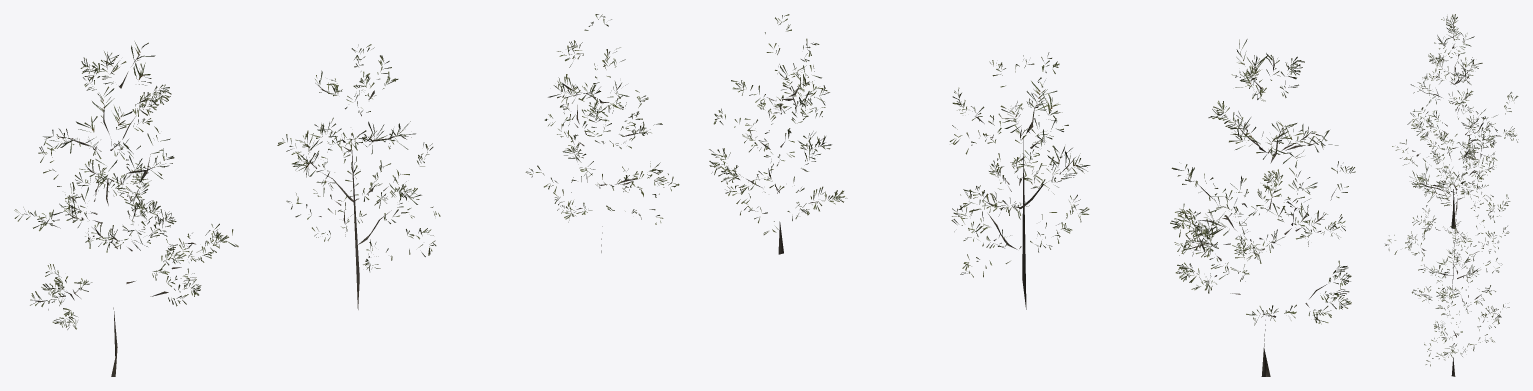
Rendered from pine_sapling_small.lod.glb.
3 renders of one model, left to right at view 1: azimuth 30°, elevation 25°; view 2: azimuth 150°, elevation 25°; view 3: azimuth 270°, elevation 25°, orthographic. The views are drawn at different scales.
Parts seen in each view (by area): view 1: pine_sapling_small_b; view 2: pine_sapling_small_b; view 3: pine_sapling_small_b.
Part boxes in pixels (<box>): pine_sapling_small_b: <box>14,14,679,376</box>; pine_sapling_small_b: <box>709,14,1355,376</box>; pine_sapling_small_b: <box>1385,14,1518,376</box>.
Size of the model in its own units: 2.63 by 1.29 by 0.7539.
2 materials, 2 textured.
